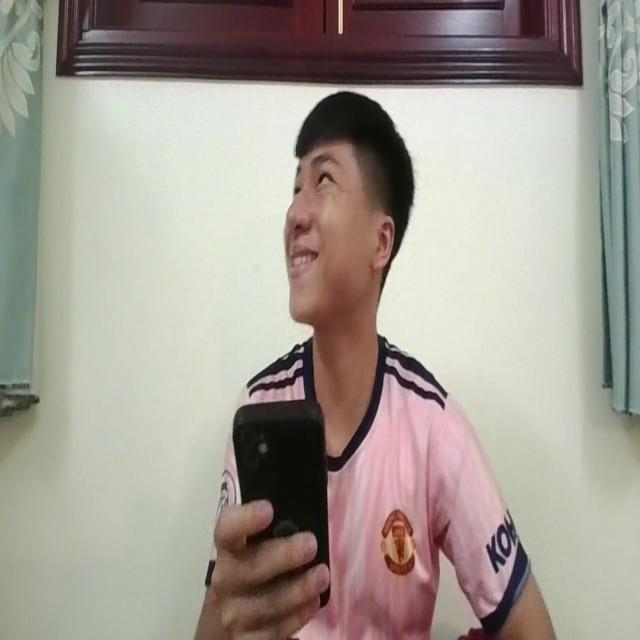phone: (231, 395, 336, 606)
student: (202, 90, 551, 640)
